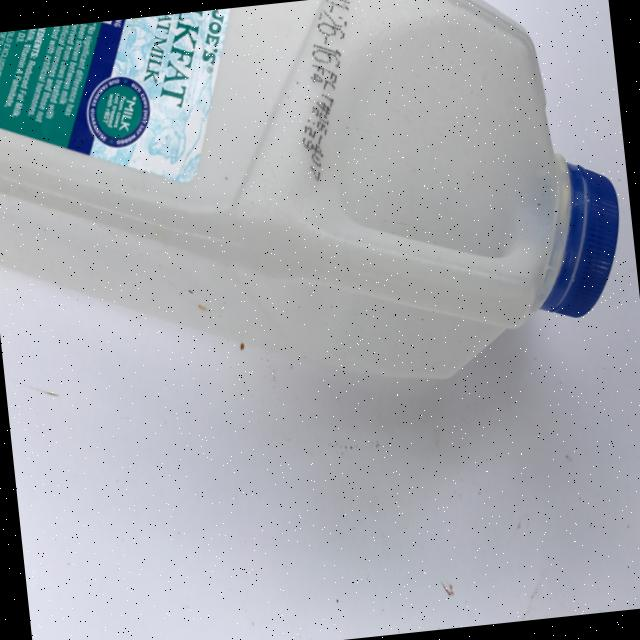plastic: (0, 0, 634, 426)
